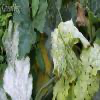Squash Powdery mildew leaf: (51, 16, 99, 76), (1, 17, 34, 99)
